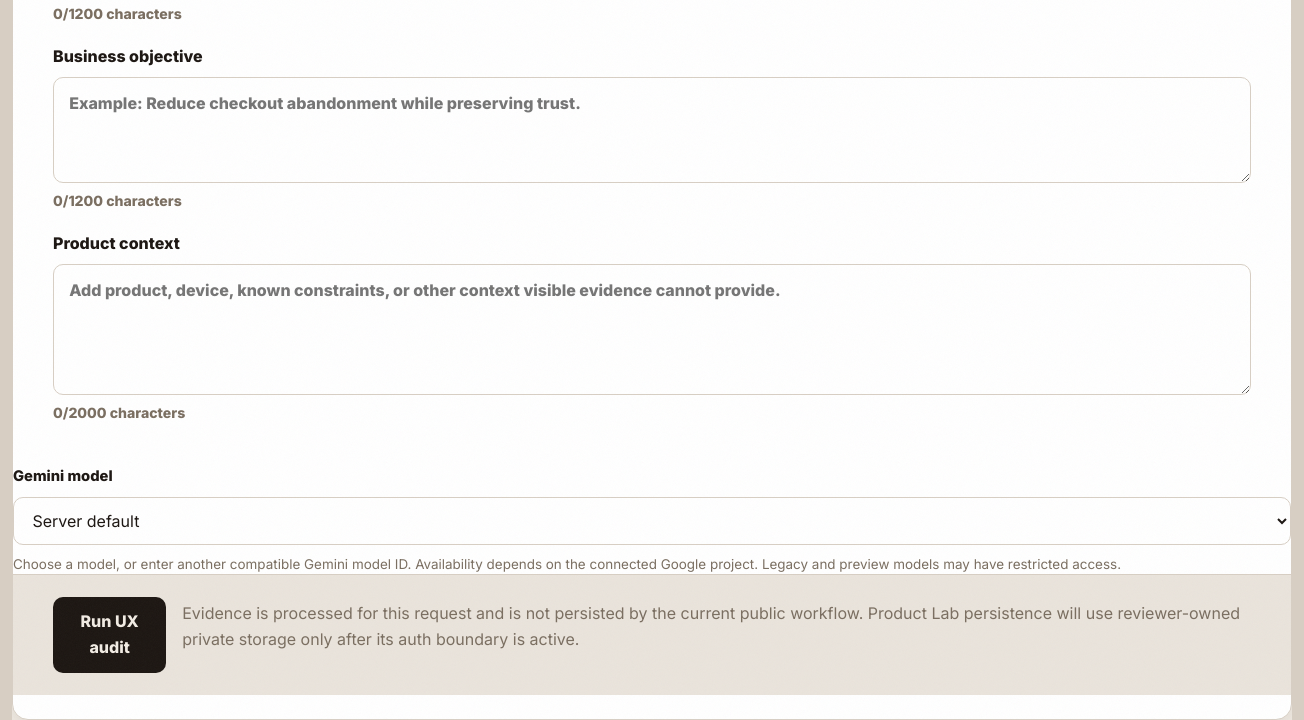
Scenario: AuditForm screenshot controls › reports an accessible error when audit is submitted without evidence
(page scrolled)
Step 1. Click the button "Run UX audit" → (110, 635), box [53,597,166,674]
(page scrolled)
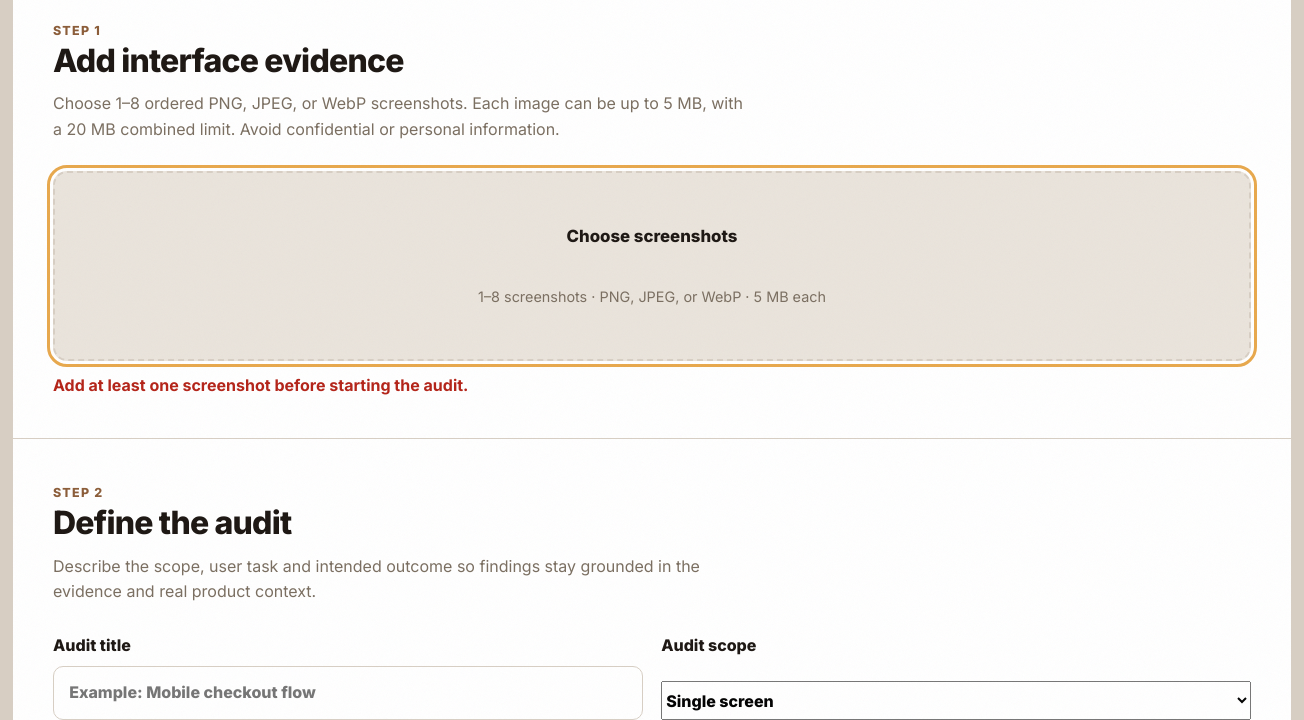
Now the message reads "Add at least one screenshot before starting the audit.", box [53,375,468,395]
